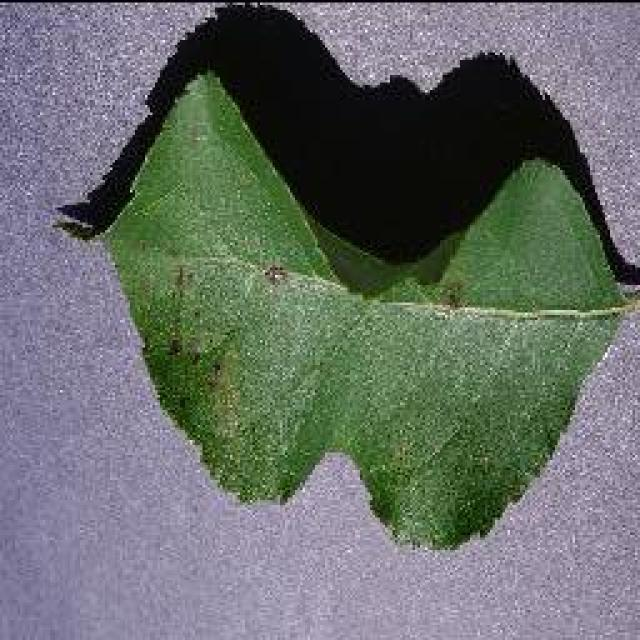apple scab disease: (52, 2, 638, 552)
